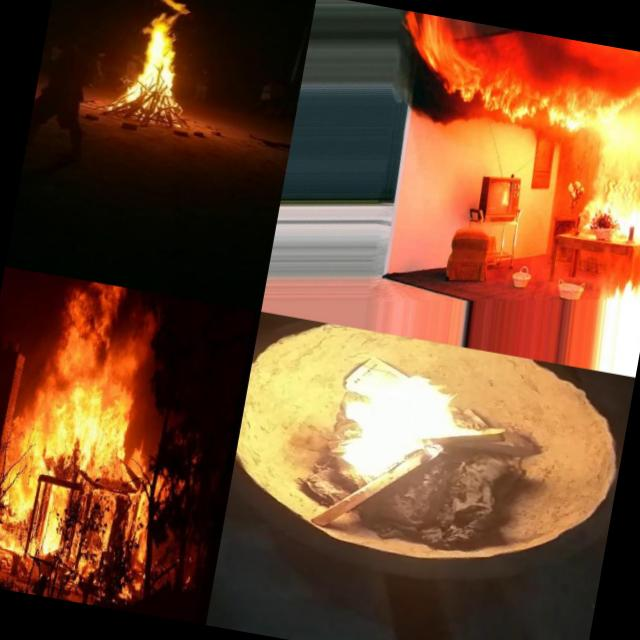fire: (0, 271, 191, 603), (291, 346, 499, 516), (466, 54, 640, 160), (112, 0, 197, 121), (562, 155, 640, 260)
smoke: (385, 61, 478, 136), (452, 19, 580, 62)
